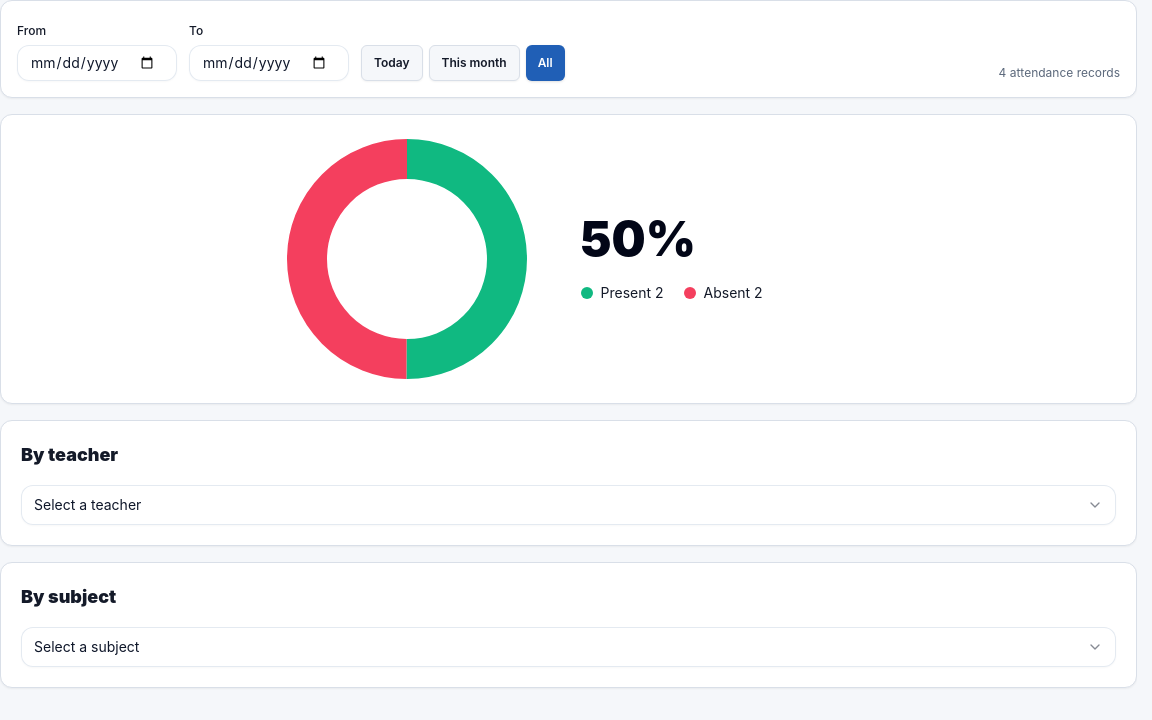
Test: attendance report dates › reports on all records until a date range is chosen
The image size is (1152, 720).
Expected: the text "4 attendance records" is shown, [998,65,1120,81]
Expected: the text "50%" is shown, [580,209,696,268]
Type "2026-10-01" into the date field labelled "From" at [97, 63], box [17,45,177,81]
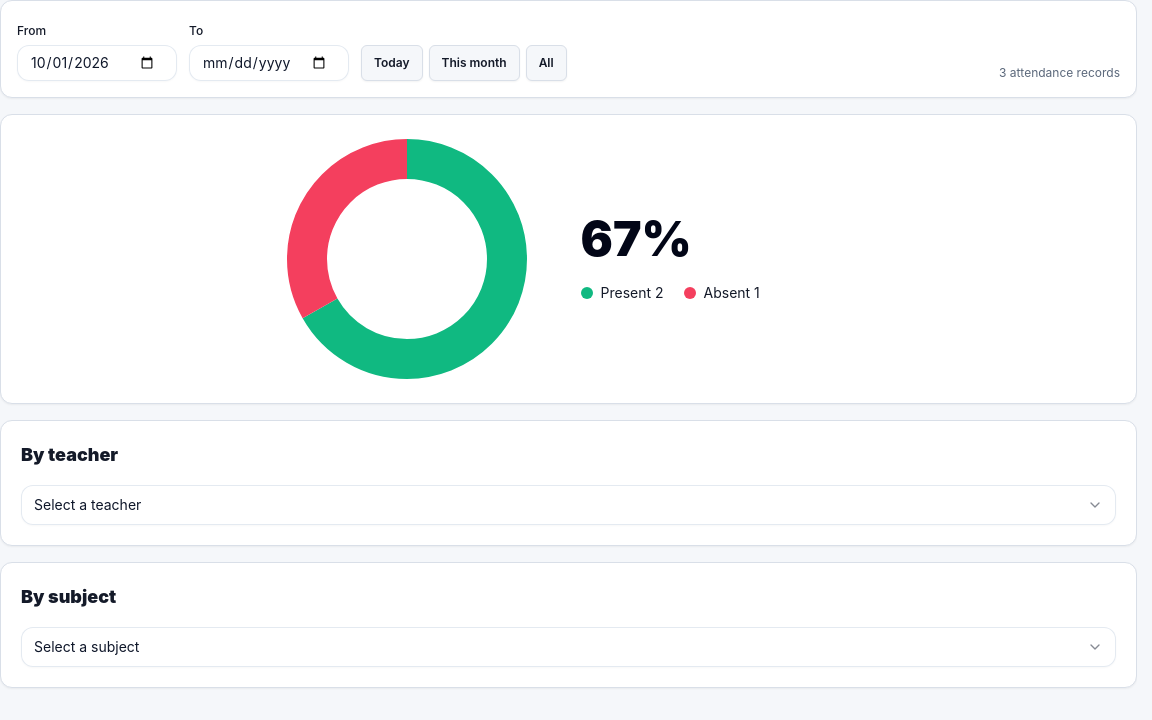
Type "2026-10-05" into the date field labelled "To" at [269, 63], box [189,45,349,81]
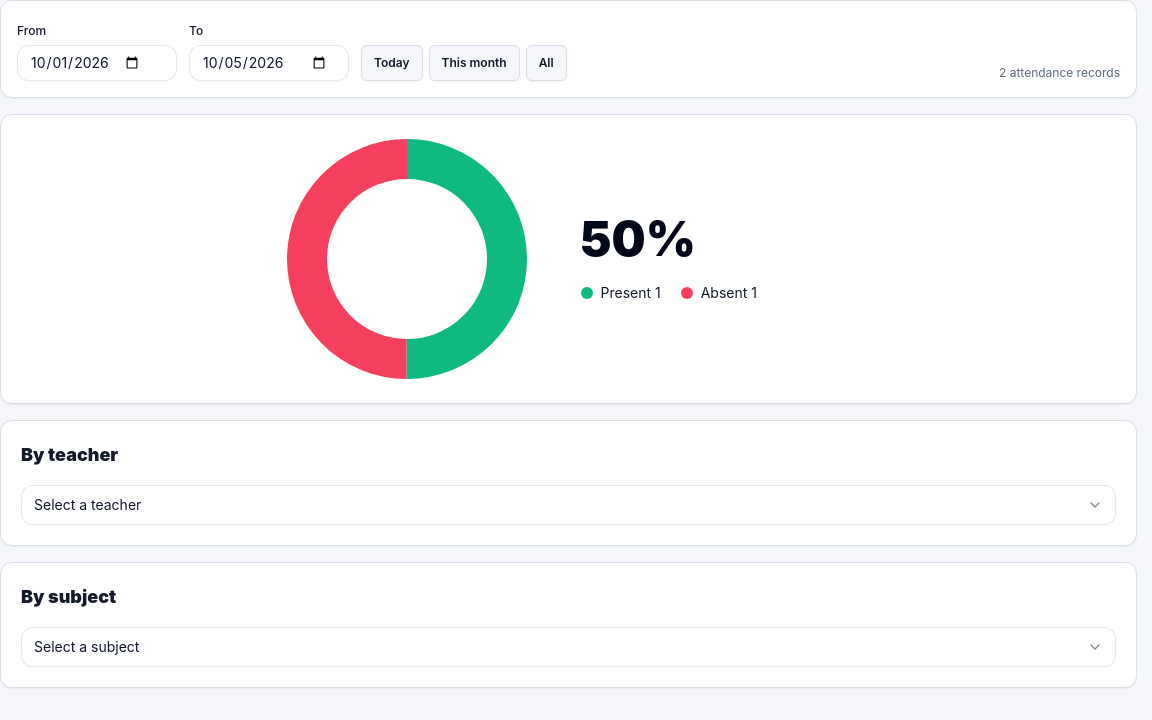
Expected: the text "2 attendance records" is shown, [999,65,1120,81]
Expected: the text "50%" is shown, [580,209,696,268]
Type "2026-10-06" into the date field labelled "From" at [97, 63], box [17,45,177,81]
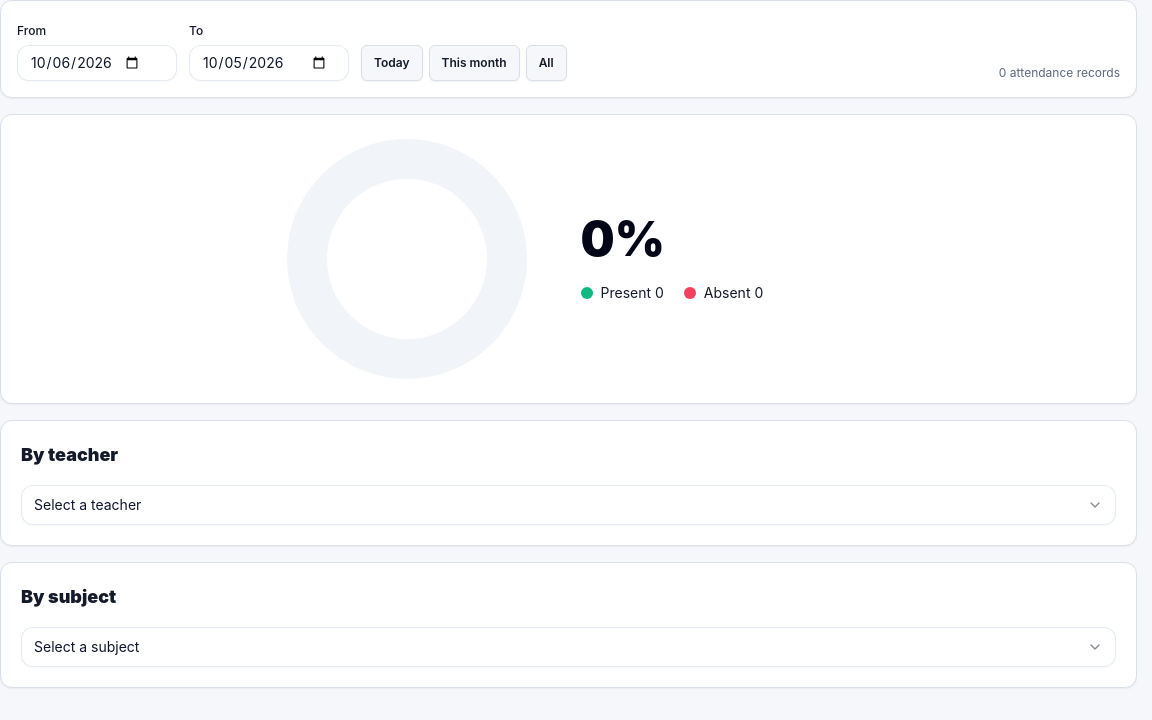
Type "2026-10-06" into the date field labelled "To" at [269, 63], box [189,45,349,81]
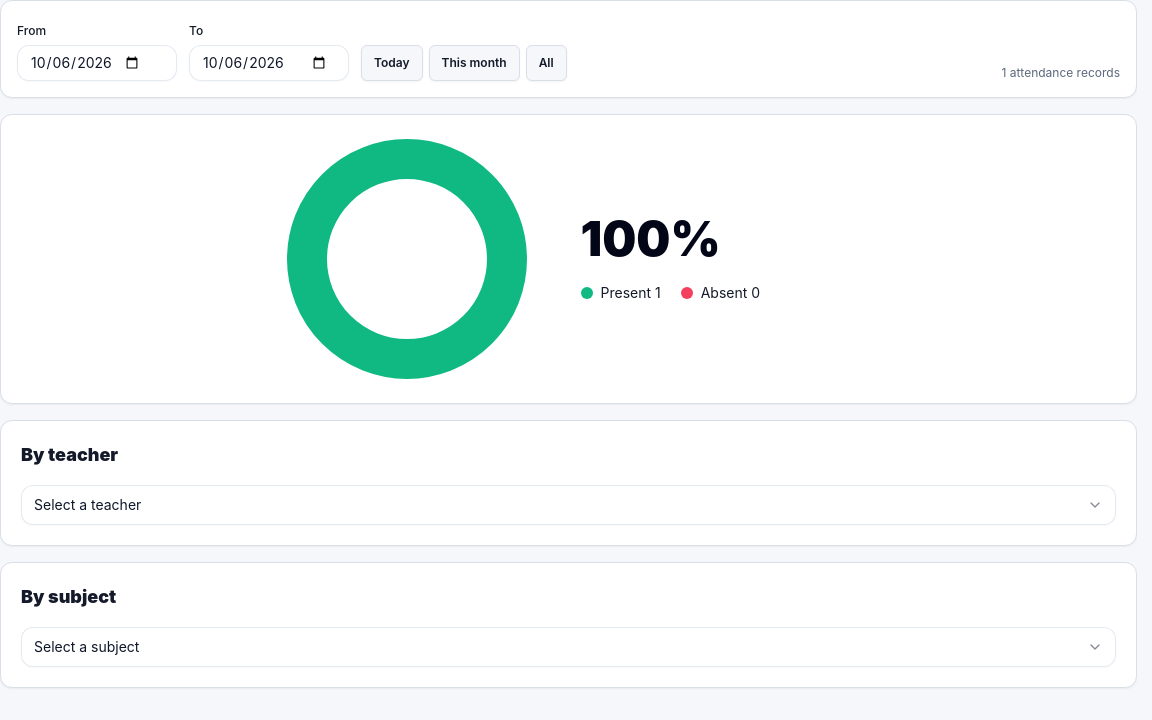
Expected: the text "1 attendance records" is shown, [1001,65,1120,81]
Expected: the text "100%" is shown, [580,209,721,268]
Click the button "All" at [546, 63], box [526,45,567,81]
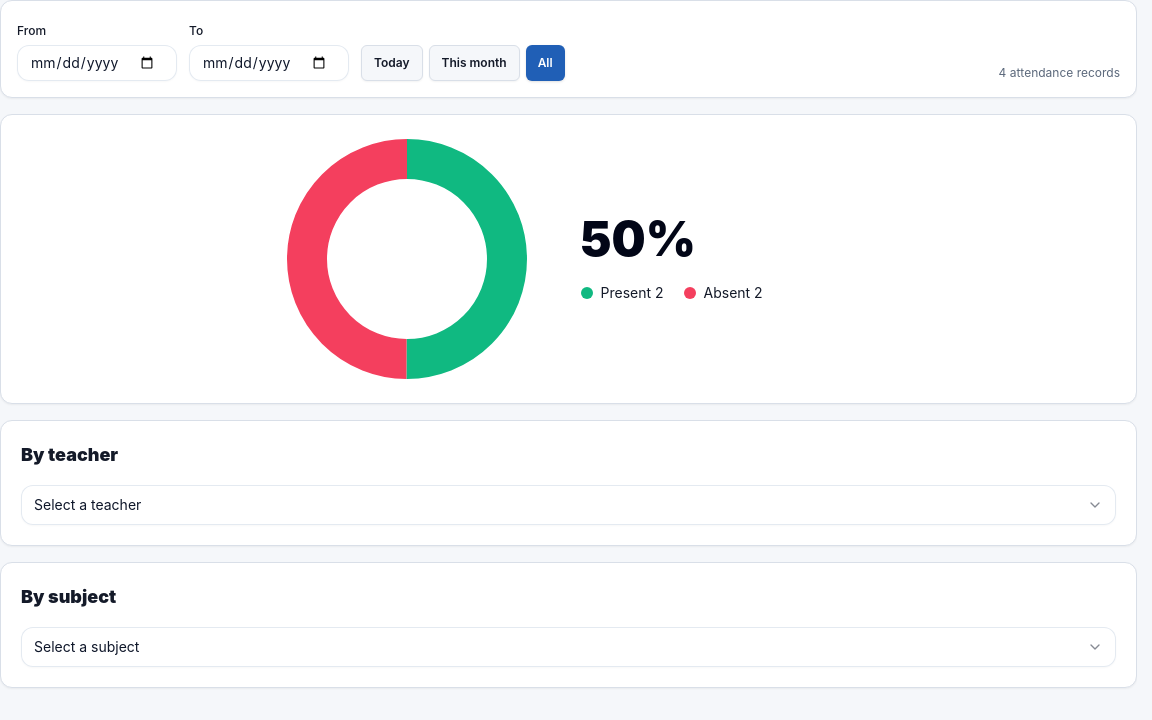
Expected: the text "4 attendance records" is shown, [998,65,1120,81]
